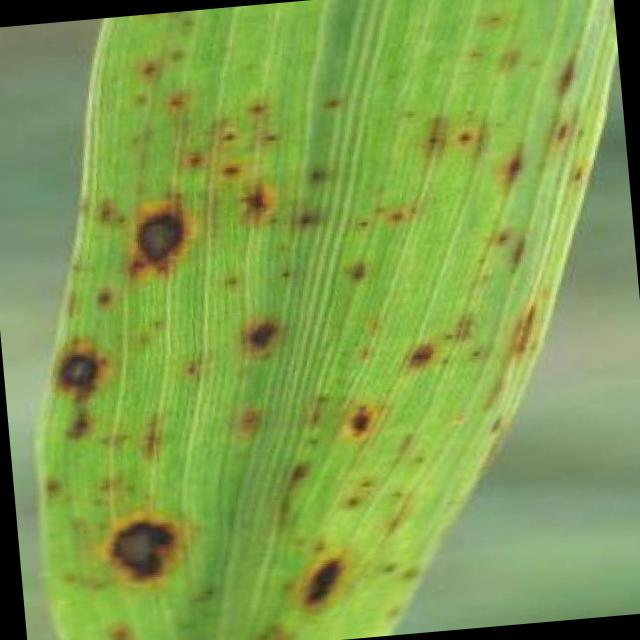Rice_Brownspot: (84, 507, 200, 593), (114, 182, 198, 282), (288, 540, 358, 618), (224, 304, 292, 371), (225, 164, 286, 230), (121, 400, 176, 466), (44, 341, 106, 397), (540, 38, 594, 100), (483, 132, 538, 190), (504, 289, 546, 362), (394, 330, 443, 378), (438, 298, 482, 350), (338, 394, 380, 444), (414, 110, 452, 164), (56, 404, 98, 445), (230, 393, 266, 439), (80, 278, 122, 315), (500, 229, 532, 276), (374, 501, 412, 538), (130, 51, 167, 86), (280, 454, 318, 488), (336, 254, 373, 288), (558, 153, 591, 190), (212, 264, 246, 297), (118, 82, 158, 110), (32, 467, 64, 501), (474, 1, 508, 32), (492, 39, 523, 73), (97, 615, 139, 640), (89, 194, 118, 230), (392, 557, 424, 588), (177, 144, 210, 174), (160, 82, 190, 115), (236, 93, 270, 122), (260, 613, 294, 640), (288, 202, 318, 232), (210, 157, 243, 184), (310, 88, 344, 114), (175, 354, 205, 382), (58, 286, 80, 322), (268, 260, 298, 286), (544, 114, 570, 144), (300, 160, 328, 187), (482, 411, 510, 438), (459, 339, 489, 364), (460, 40, 488, 64), (272, 572, 300, 596), (250, 126, 283, 146), (449, 122, 474, 148), (487, 222, 512, 248), (336, 490, 362, 515), (160, 40, 187, 64), (348, 210, 376, 233), (383, 203, 408, 227), (373, 555, 398, 579), (298, 429, 326, 450), (379, 600, 406, 621), (352, 338, 373, 364), (193, 578, 220, 598), (378, 62, 402, 84), (172, 10, 195, 32), (130, 328, 154, 349), (430, 352, 455, 372), (354, 472, 378, 492), (304, 534, 328, 554), (62, 254, 86, 274), (398, 102, 418, 125), (215, 124, 236, 145), (146, 312, 169, 331), (383, 482, 406, 501), (165, 630, 206, 640), (245, 624, 269, 640), (286, 529, 306, 548), (55, 566, 75, 585), (570, 121, 587, 141), (406, 450, 424, 468), (522, 52, 540, 70), (402, 202, 422, 218), (112, 210, 130, 227), (460, 101, 476, 119), (470, 248, 486, 266), (140, 488, 154, 502), (120, 480, 134, 494), (89, 493, 103, 507)
